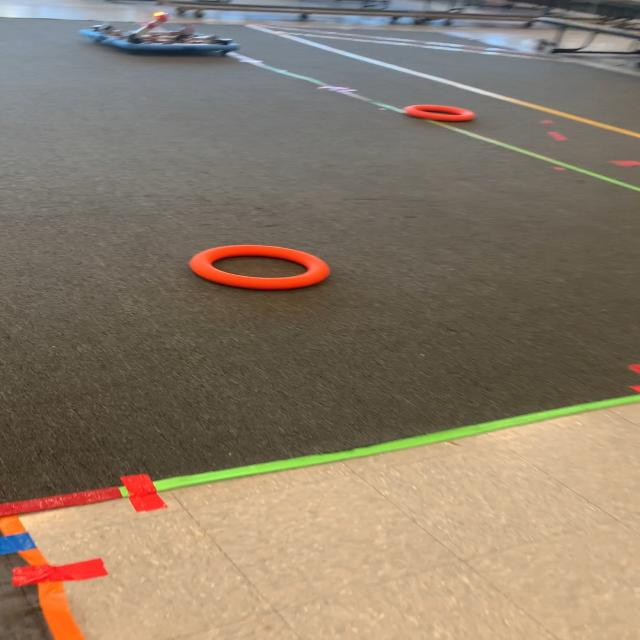notes: (190, 244, 332, 292), (403, 104, 476, 123)
